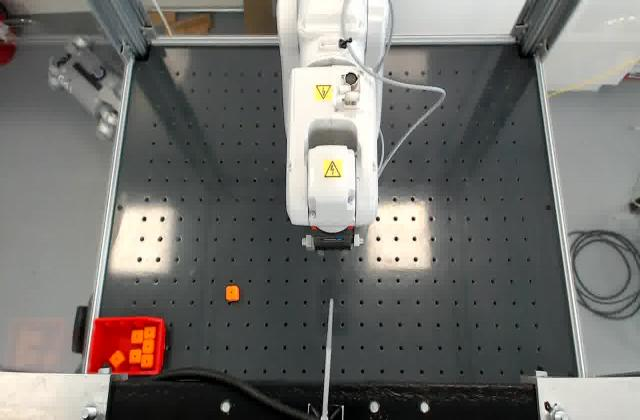cube: (225, 286, 240, 302)
